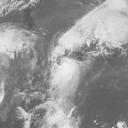cyclone: (45, 41, 86, 89)
